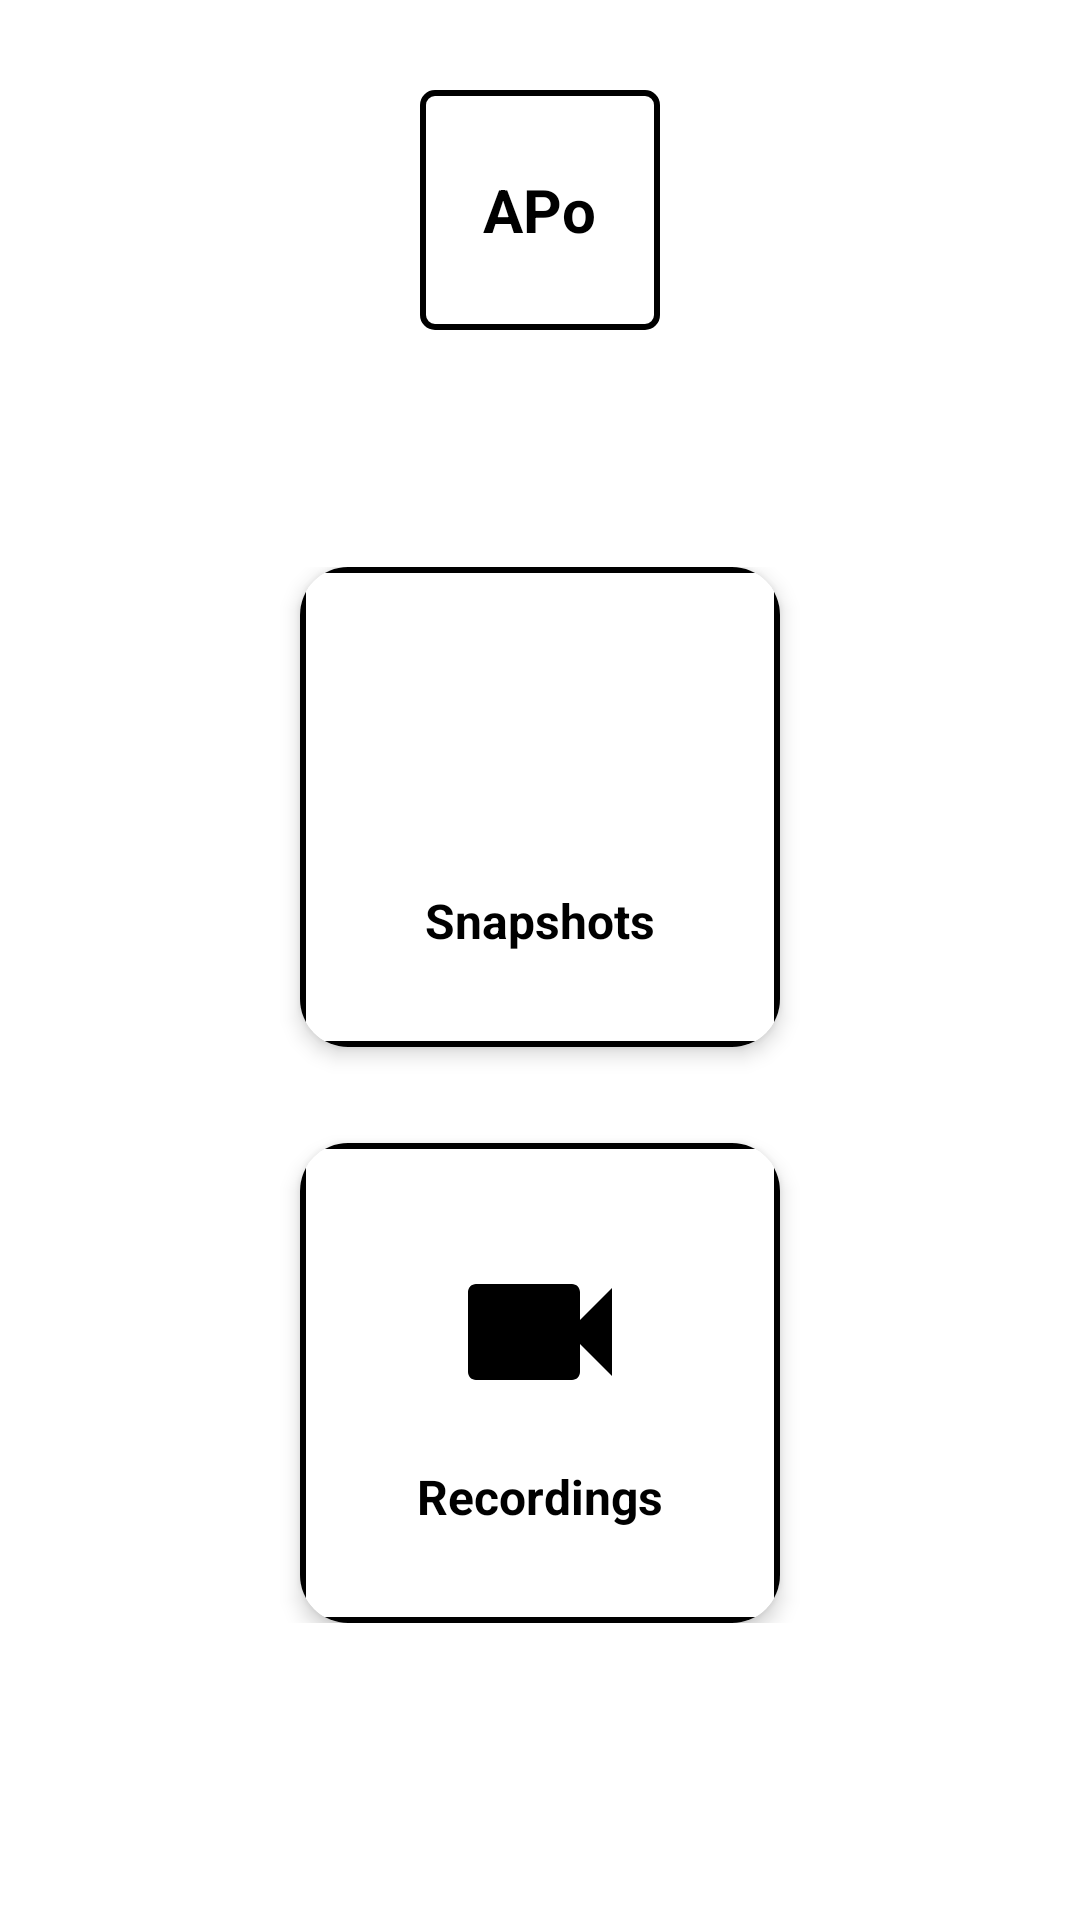

Icon click points for this 1080x1920 phone screenshot, format (x=x, y=y):
videocam: (x=540, y=1332)
